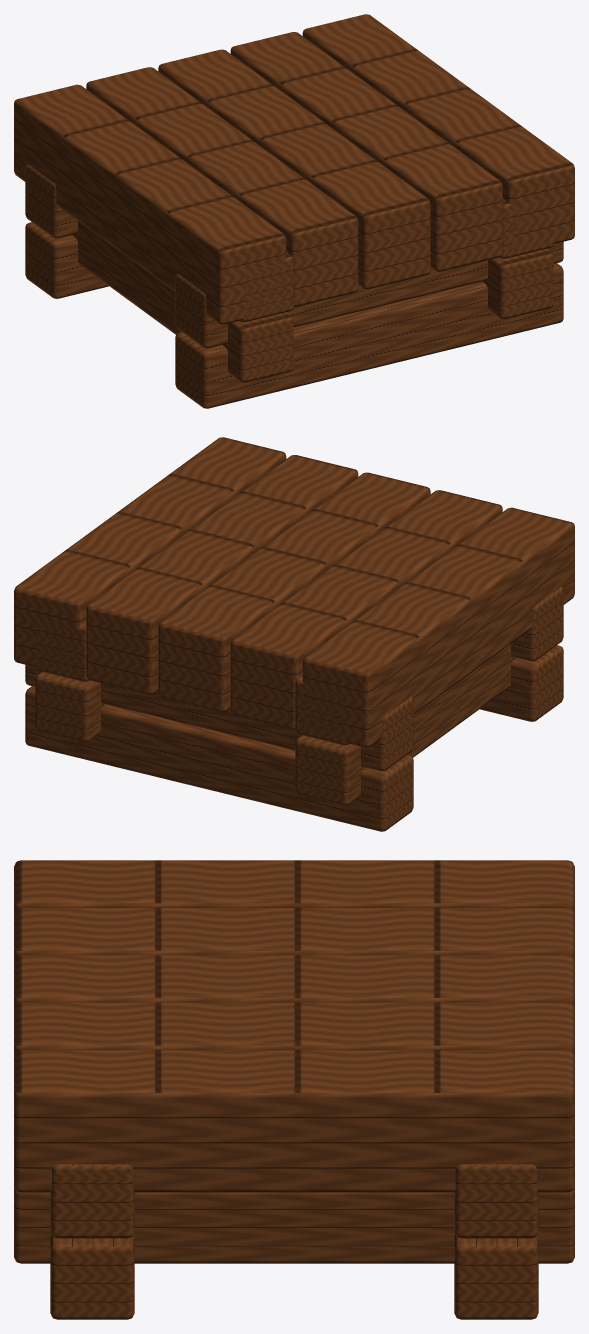
Rendered from rural-scavenging-settlements-rain-barrel-platform-177f8a34__26538.glb.
3 renders of one model, top to bottom at view 1: azimuth 30°, elevation 25°; view 2: azimuth 150°, elevation 25°; view 3: azimuth 270°, elevation 25°, orthographic. The views are drawn at different scales.
Visible parts, largest first — view 1: rain-barrel-platform; view 2: rain-barrel-platform; view 3: rain-barrel-platform.
Boxes of the visible parts, x1,y1,x2,y2 form: rain-barrel-platform: (14,14,574,408); rain-barrel-platform: (14,437,574,831); rain-barrel-platform: (14,860,574,1319).
Bounding box in the file's own units: 1 × 0.45 × 1.
Materials: 1 (1 with a texture image).
